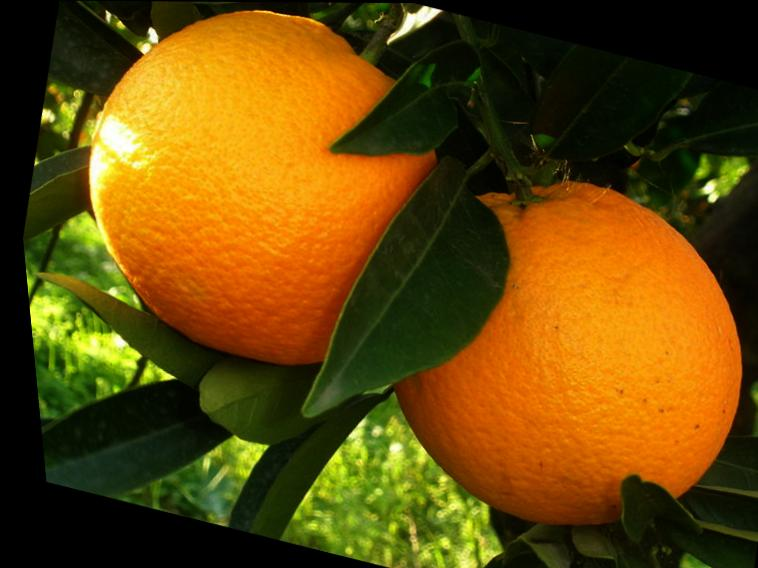Healthy Citrus: (270, 122, 548, 460), (25, 326, 246, 526), (511, 34, 699, 187), (60, 0, 205, 29)
